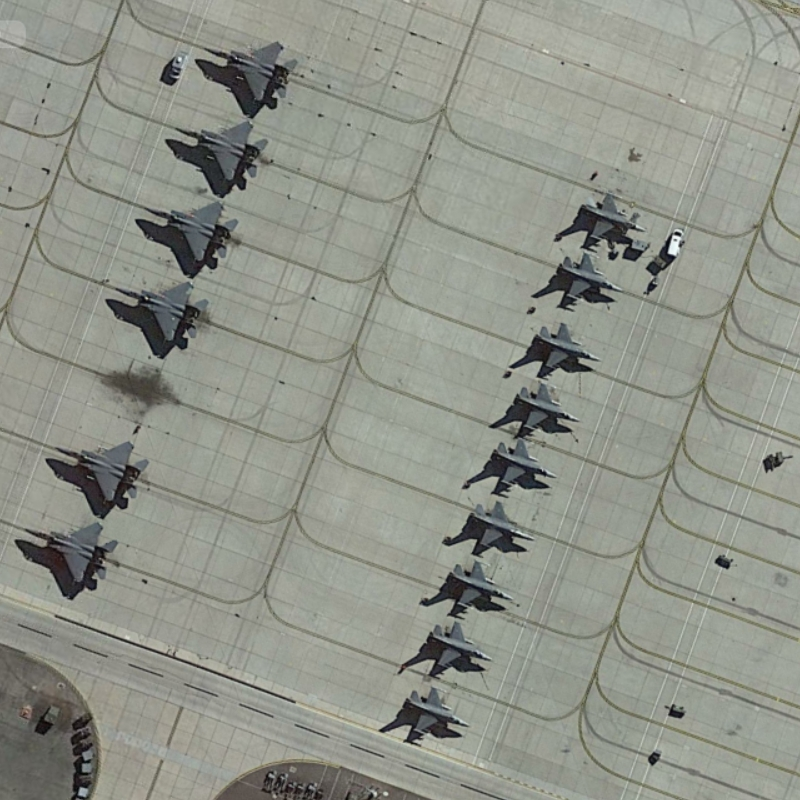A13: (135, 189, 248, 273), (102, 271, 215, 352), (165, 110, 280, 189), (17, 515, 124, 597), (48, 431, 154, 511), (199, 33, 304, 108)
A5: (548, 245, 632, 311), (391, 680, 476, 745), (420, 613, 498, 683), (431, 555, 523, 614), (571, 180, 652, 247), (524, 314, 606, 380), (480, 433, 564, 497), (458, 496, 537, 561), (509, 377, 586, 442)
